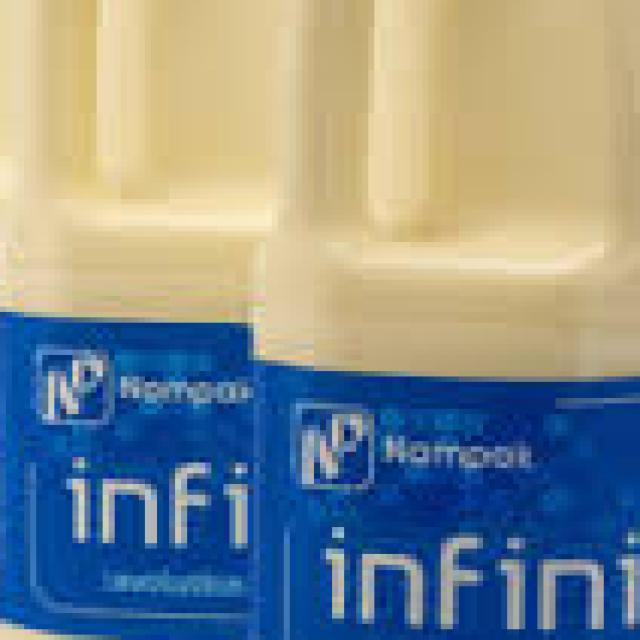milk: (12, 0, 435, 640), (223, 0, 640, 640), (0, 0, 193, 640)
